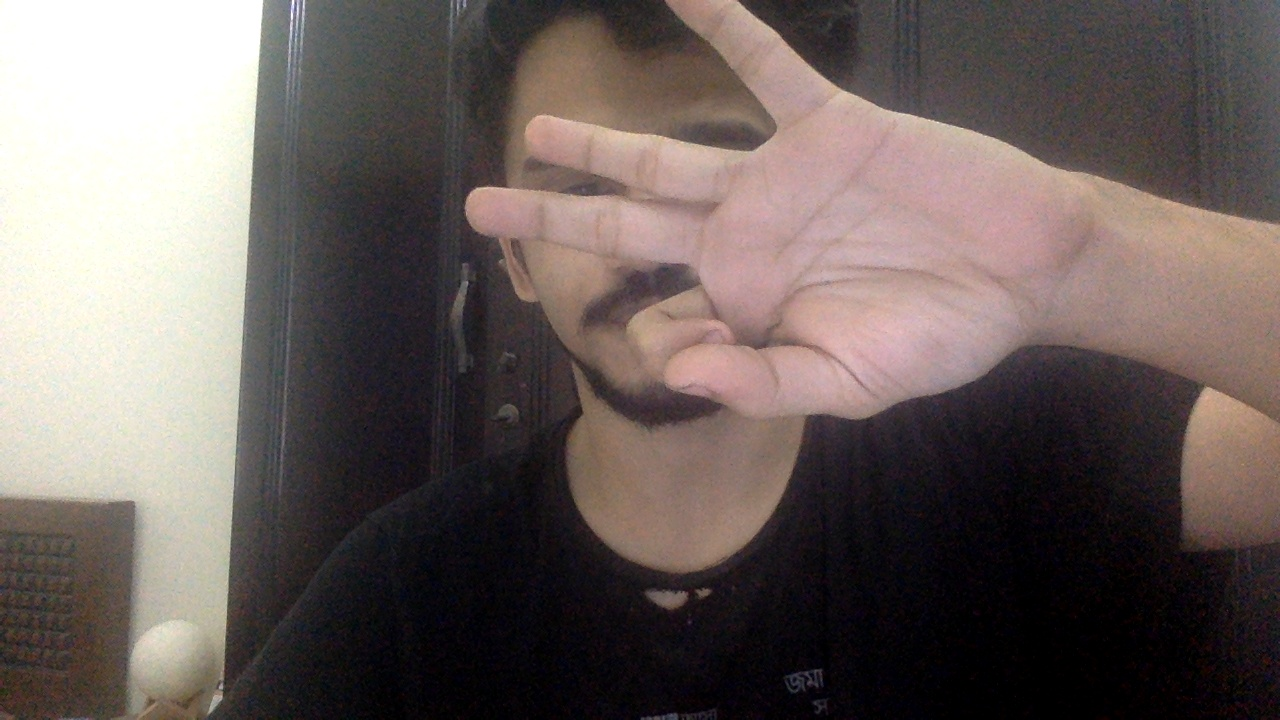perfect: (463, 2, 1087, 423)
